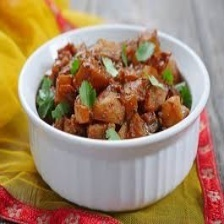sabzi: (30, 26, 195, 142)
